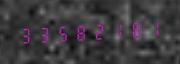eight: (71, 20, 88, 44), (125, 18, 142, 41)
five: (53, 21, 70, 45)
one: (107, 19, 124, 42), (143, 17, 160, 40)
three: (17, 23, 34, 46), (35, 22, 52, 45)
two: (89, 20, 106, 43)
